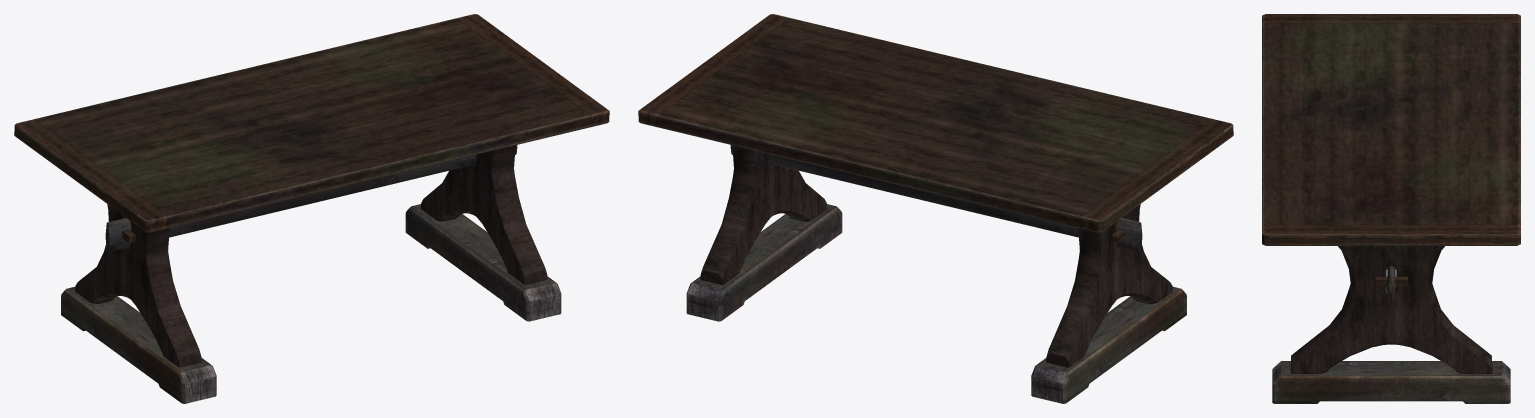
Rendered from table_wood_b.glb.
The picture shows the model from 3 angles, left to right: view 1: azimuth 30°, elevation 25°; view 2: azimuth 150°, elevation 25°; view 3: azimuth 270°, elevation 25°; orthographic projection. The views are drawn at different scales.
Visible parts, largest first — view 1: Desk_LP_01 - Default_0; view 2: Desk_LP_01 - Default_0; view 3: Desk_LP_01 - Default_0.
Boxes of the visible parts, x1=… form: Desk_LP_01 - Default_0: x1=14, y1=14, x2=609, y2=403; Desk_LP_01 - Default_0: x1=638, y1=14, x2=1233, y2=403; Desk_LP_01 - Default_0: x1=1262, y1=14, x2=1520, y2=403.
Size of the model in its own units: 2 by 0.8184 by 1.
1 material, 1 textured.
